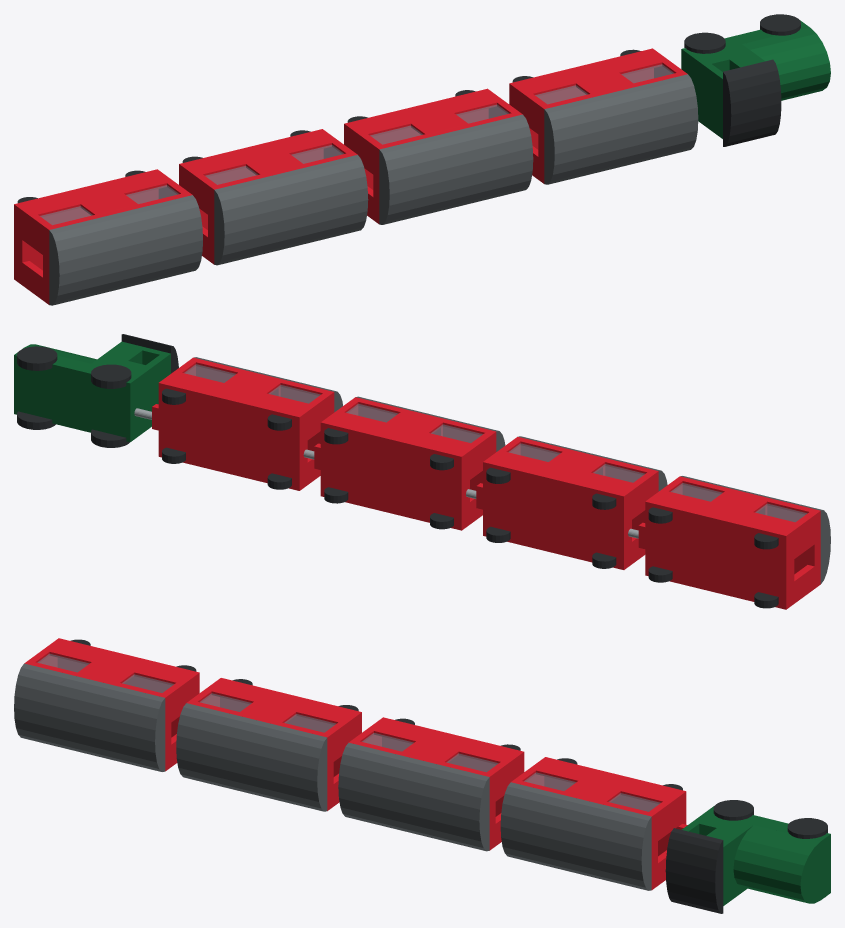
The model's file is tinker.obj.
3 views of the same model, one above another, from view 1: azimuth 30°, elevation 25°; view 2: azimuth 150°, elevation 25°; view 3: azimuth 330°, elevation 25° (orthographic).
Parts seen in each view (by area): view 1: group_0_6383466, group_0_15277357, group_0_1206582, group_0_2829873, group_0_-1032466725; view 2: group_0_15277357, group_0_1206582, group_0_2829873, group_0_-1032466725, group_0_6383466; view 3: group_0_6383466, group_0_15277357, group_0_1206582, group_0_2829873, group_0_-1032466725.
Boxes of the visible parts, x1,y1,x2,y2 form: group_0_6383466: (49, 74, 698, 305); group_0_15277357: (14, 48, 687, 304); group_0_1206582: (681, 20, 830, 138); group_0_2829873: (17, 14, 800, 203); group_0_-1032466725: (40, 64, 673, 224); group_0_15277357: (152, 357, 820, 609); group_0_1206582: (14, 341, 170, 442); group_0_2829873: (17, 334, 778, 608); group_0_-1032466725: (185, 364, 806, 521); group_0_6383466: (194, 357, 830, 584); group_0_6383466: (14, 663, 651, 890); group_0_15277357: (24, 638, 687, 889); group_0_1206582: (682, 806, 830, 905); group_0_2829873: (70, 639, 827, 913); group_0_-1032466725: (38, 654, 659, 811).
Size of the model in its own units: 219 by 20 by 28.
